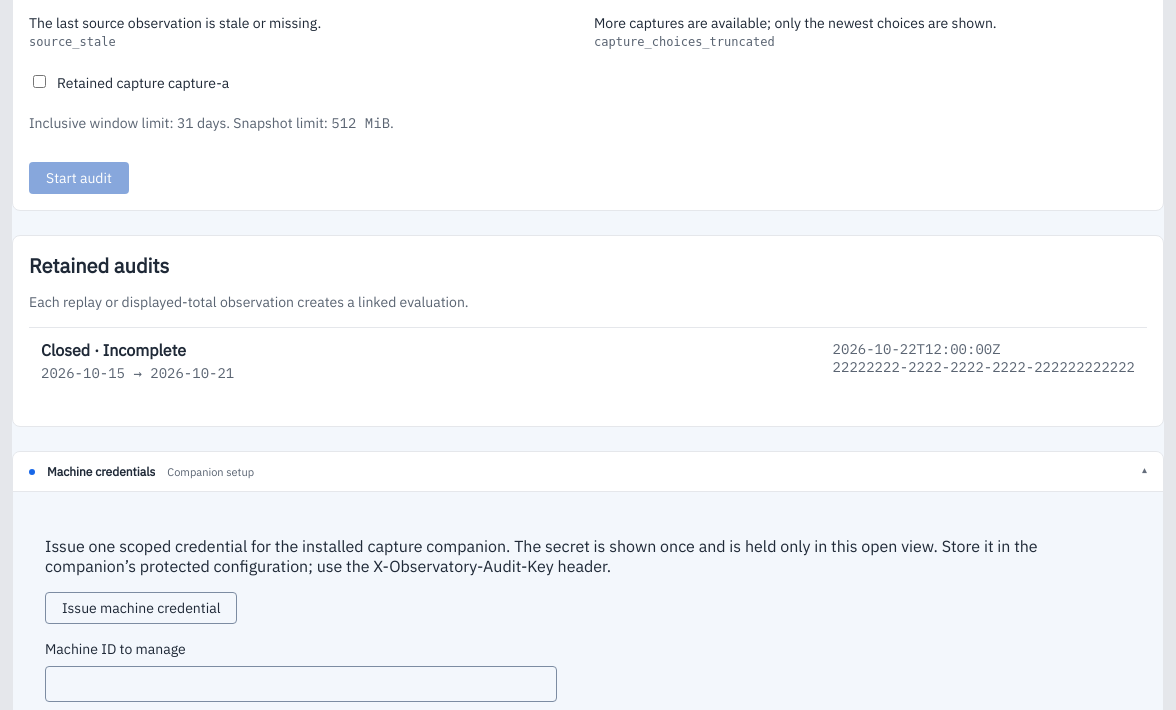
it: deleted indefinite evidence disables replay, export and probe while retaining the summary report
This screenshot has width=1176, height=710.
(page scrolled)
Step 1. Click the button with aria-label "Open audit" → [114, 350], box left=29, top=327, right=1147, bottom=394
(page scrolled)
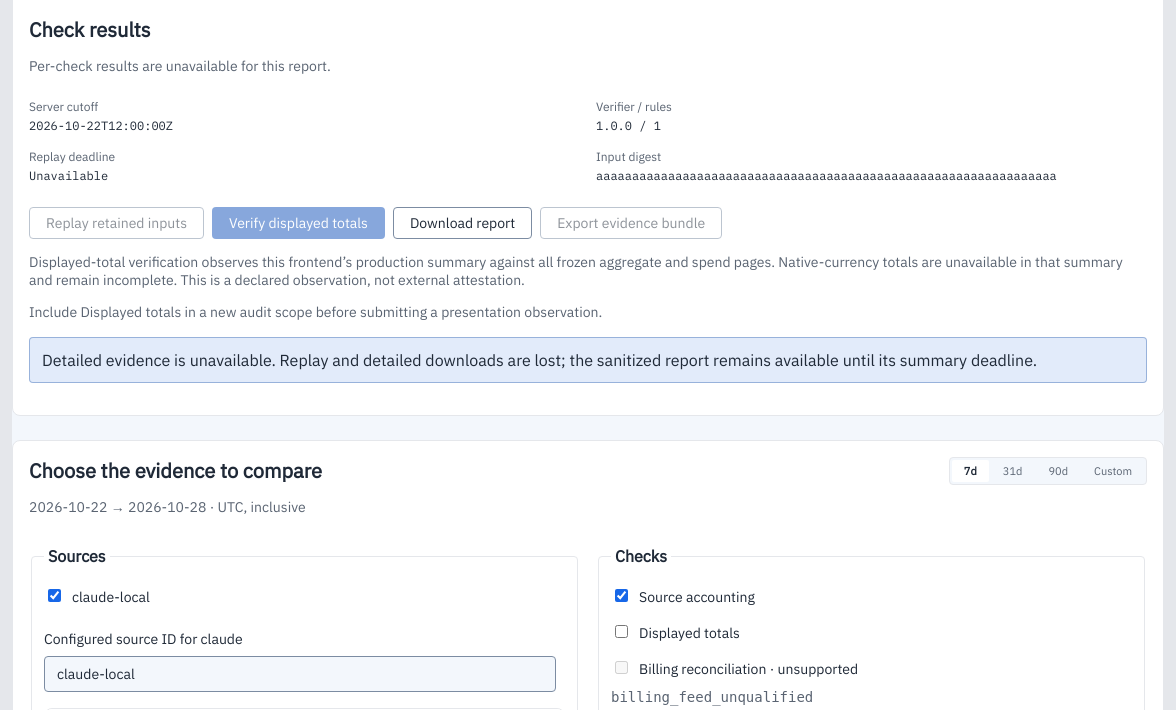
Check: the button "Replay retained inputs" is disabled, box left=29, top=207, right=204, bottom=239
Check: the button "Export evidence bundle" is disabled, box left=540, top=207, right=722, bottom=239
Check: the button "Verify displayed totals" is disabled, box left=212, top=207, right=385, bottom=239
